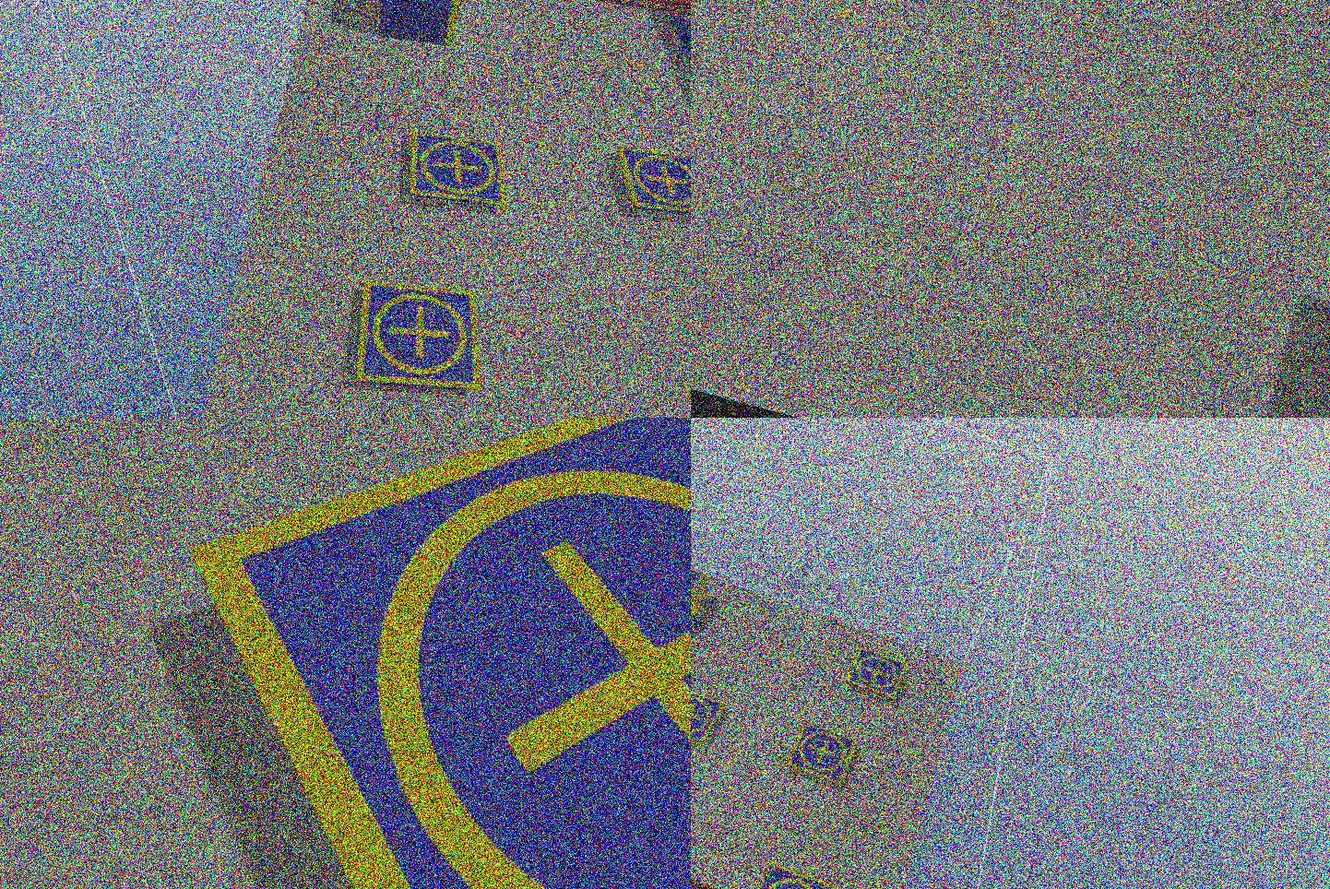large_base: (637, 6, 692, 187)
small_base: (84, 419, 692, 889), (338, 266, 500, 419), (391, 123, 520, 227), (604, 140, 692, 234), (783, 717, 862, 790), (845, 645, 912, 705), (748, 859, 844, 889), (692, 681, 727, 751), (692, 554, 707, 612)
